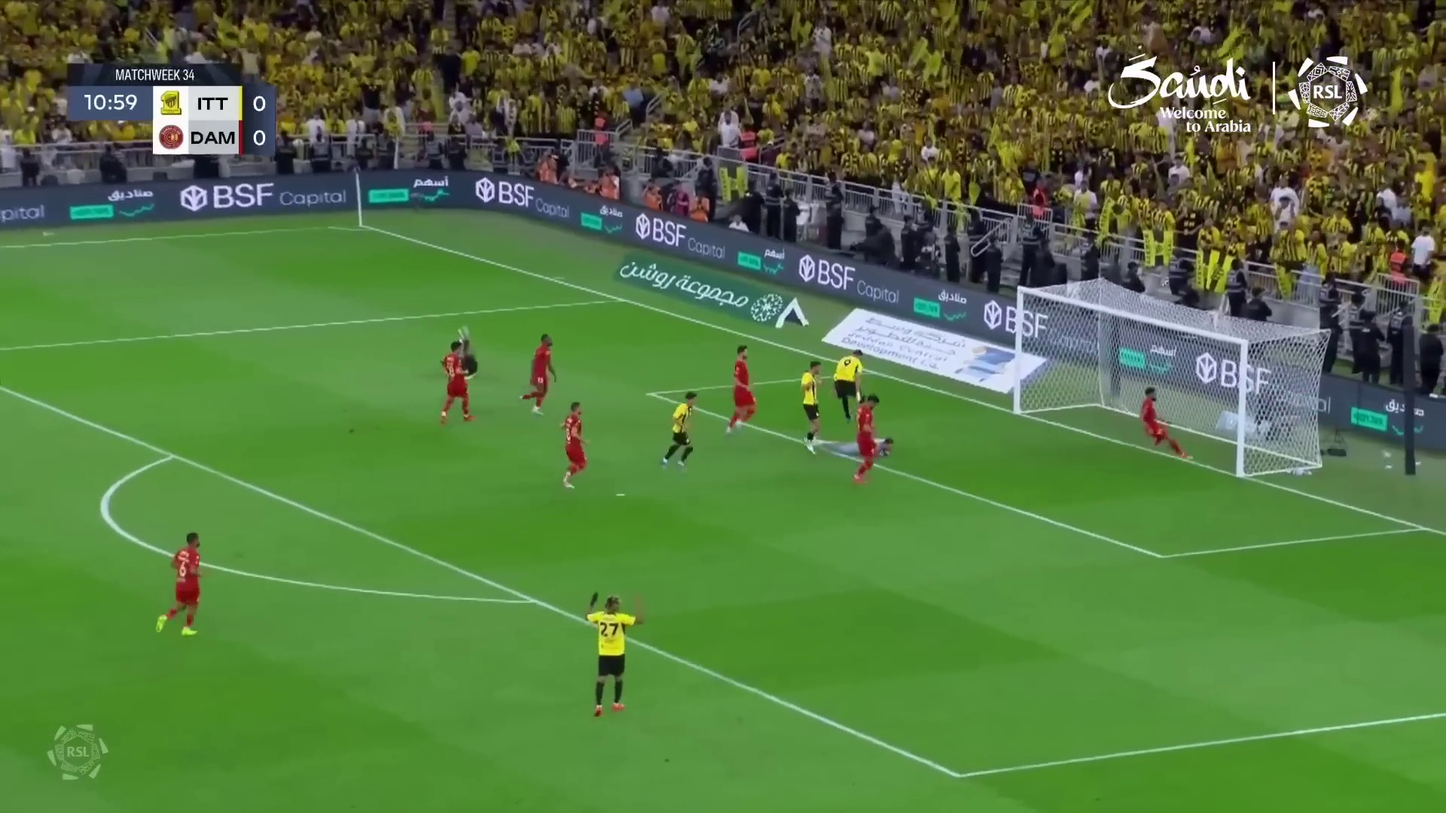player: (576, 592, 649, 721), (152, 530, 210, 640), (1134, 385, 1195, 463), (434, 340, 480, 428), (656, 391, 706, 470), (516, 332, 562, 416), (848, 394, 889, 488), (721, 345, 761, 436), (556, 399, 593, 491), (795, 359, 829, 455), (828, 348, 870, 423), (820, 434, 896, 455), (456, 328, 480, 380)
